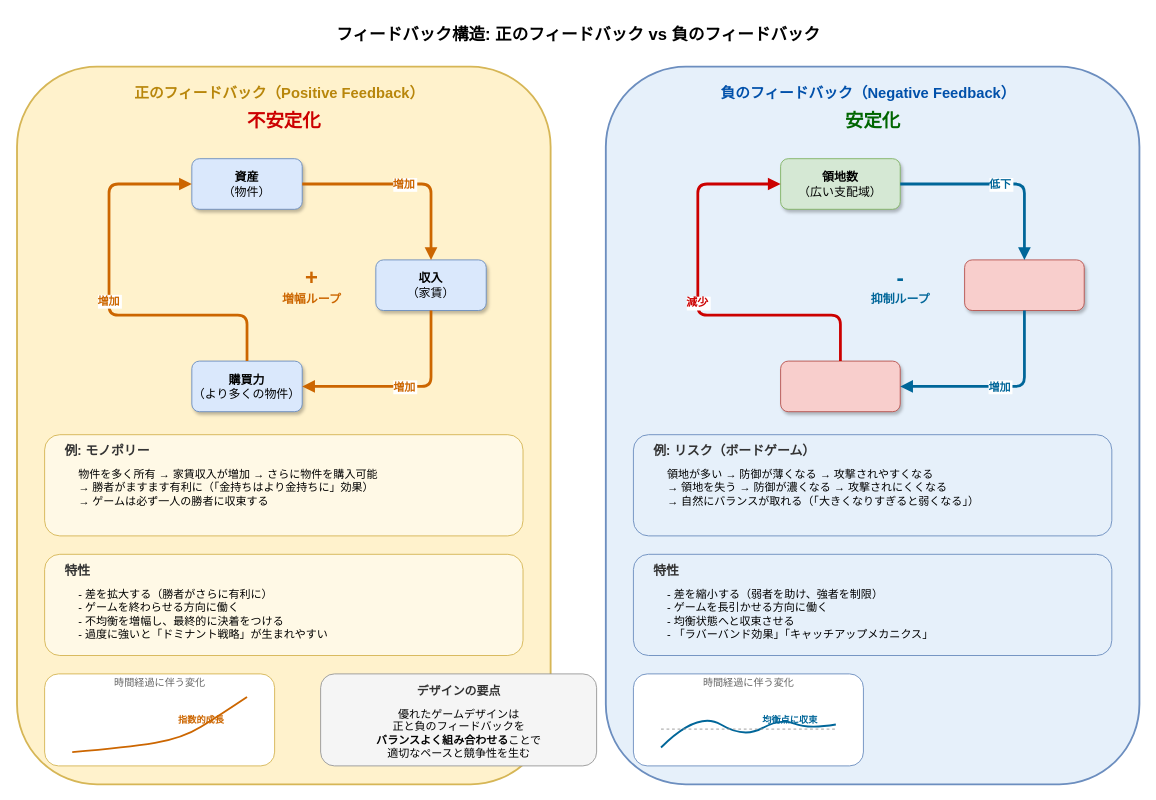
Some shapes in this 1156 by 800 pixel diagram are drawn without their labels. The shapes that lost their labels are listed below. From the top down, each one's centre as x and y in pixels, then its label:
(1025,286): 防御力 （兵力分散）
(841,387): 被攻撃リスク （攻撃されやすい）
